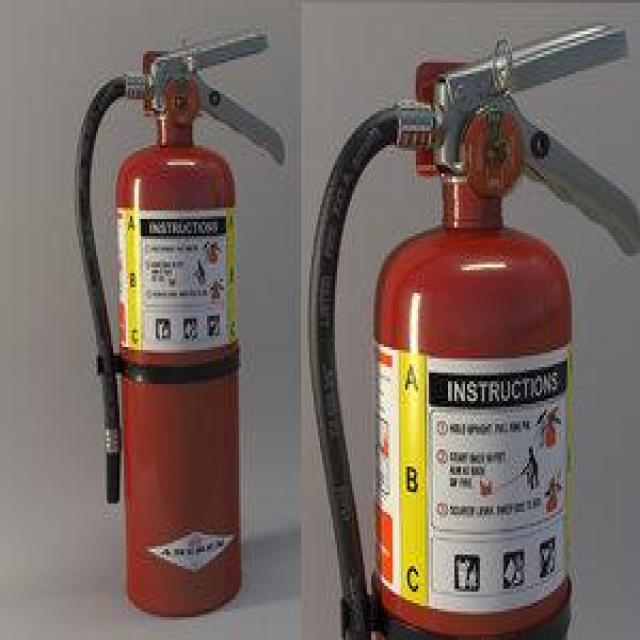fire_extinguisher: (301, 14, 638, 637), (63, 20, 287, 623)
